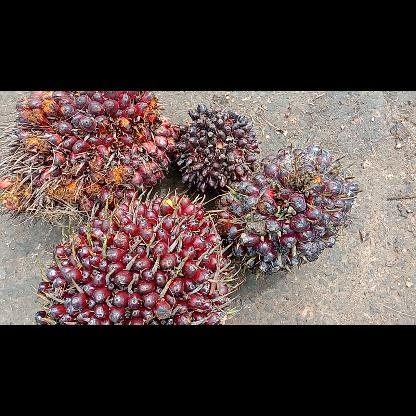Kurang masak: (32, 194, 238, 324), (212, 143, 366, 277)
TBS abnormal: (173, 101, 263, 195)
TBS masak: (1, 92, 170, 216)
